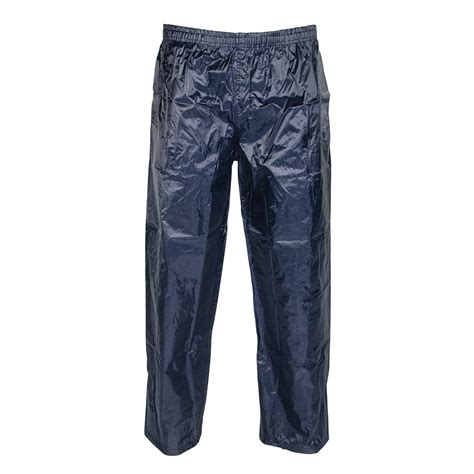nylon: (145, 22, 331, 454)
